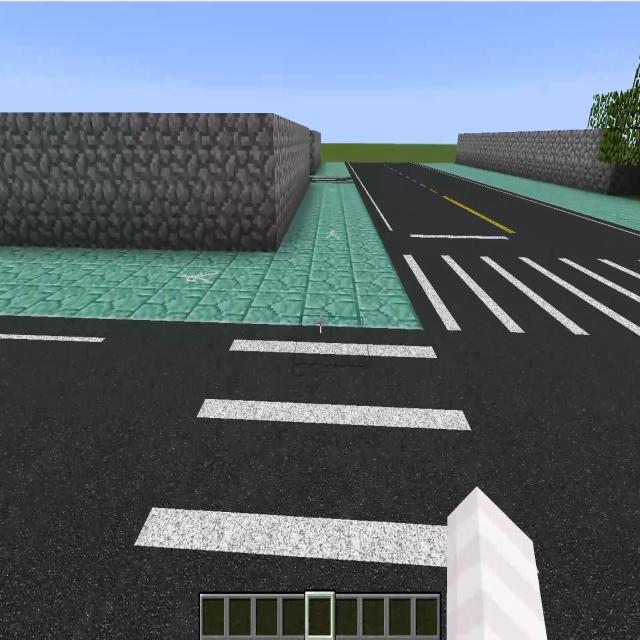crosswalk: (92, 326, 501, 639), (392, 254, 640, 338), (313, 178, 353, 182)
road: (1, 315, 234, 638), (430, 334, 640, 639), (347, 163, 640, 251)
sidewalk: (0, 183, 422, 329), (424, 163, 640, 231), (315, 162, 349, 176)
